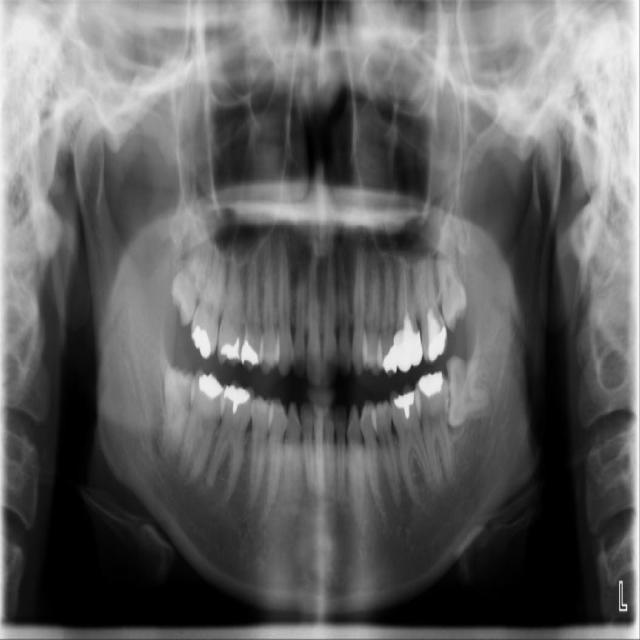Crown: (392, 331, 422, 372)
Filling: (190, 367, 226, 424), (420, 307, 448, 364), (220, 380, 254, 422), (415, 370, 444, 398), (216, 333, 241, 362), (392, 391, 415, 420), (239, 341, 262, 366), (192, 326, 211, 356), (381, 343, 397, 377)
Periapical lesion: (155, 442, 179, 462), (203, 479, 216, 493)
Root Canal Treatment: (404, 271, 413, 331)
impacted tooth: (171, 234, 213, 326), (447, 356, 499, 423), (436, 214, 464, 325), (162, 366, 196, 457)
